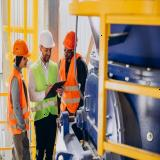Helmet: (13, 38, 32, 58), (62, 29, 79, 51), (38, 29, 56, 48)
Vest: (31, 60, 59, 119), (59, 54, 84, 117), (7, 68, 30, 134)
